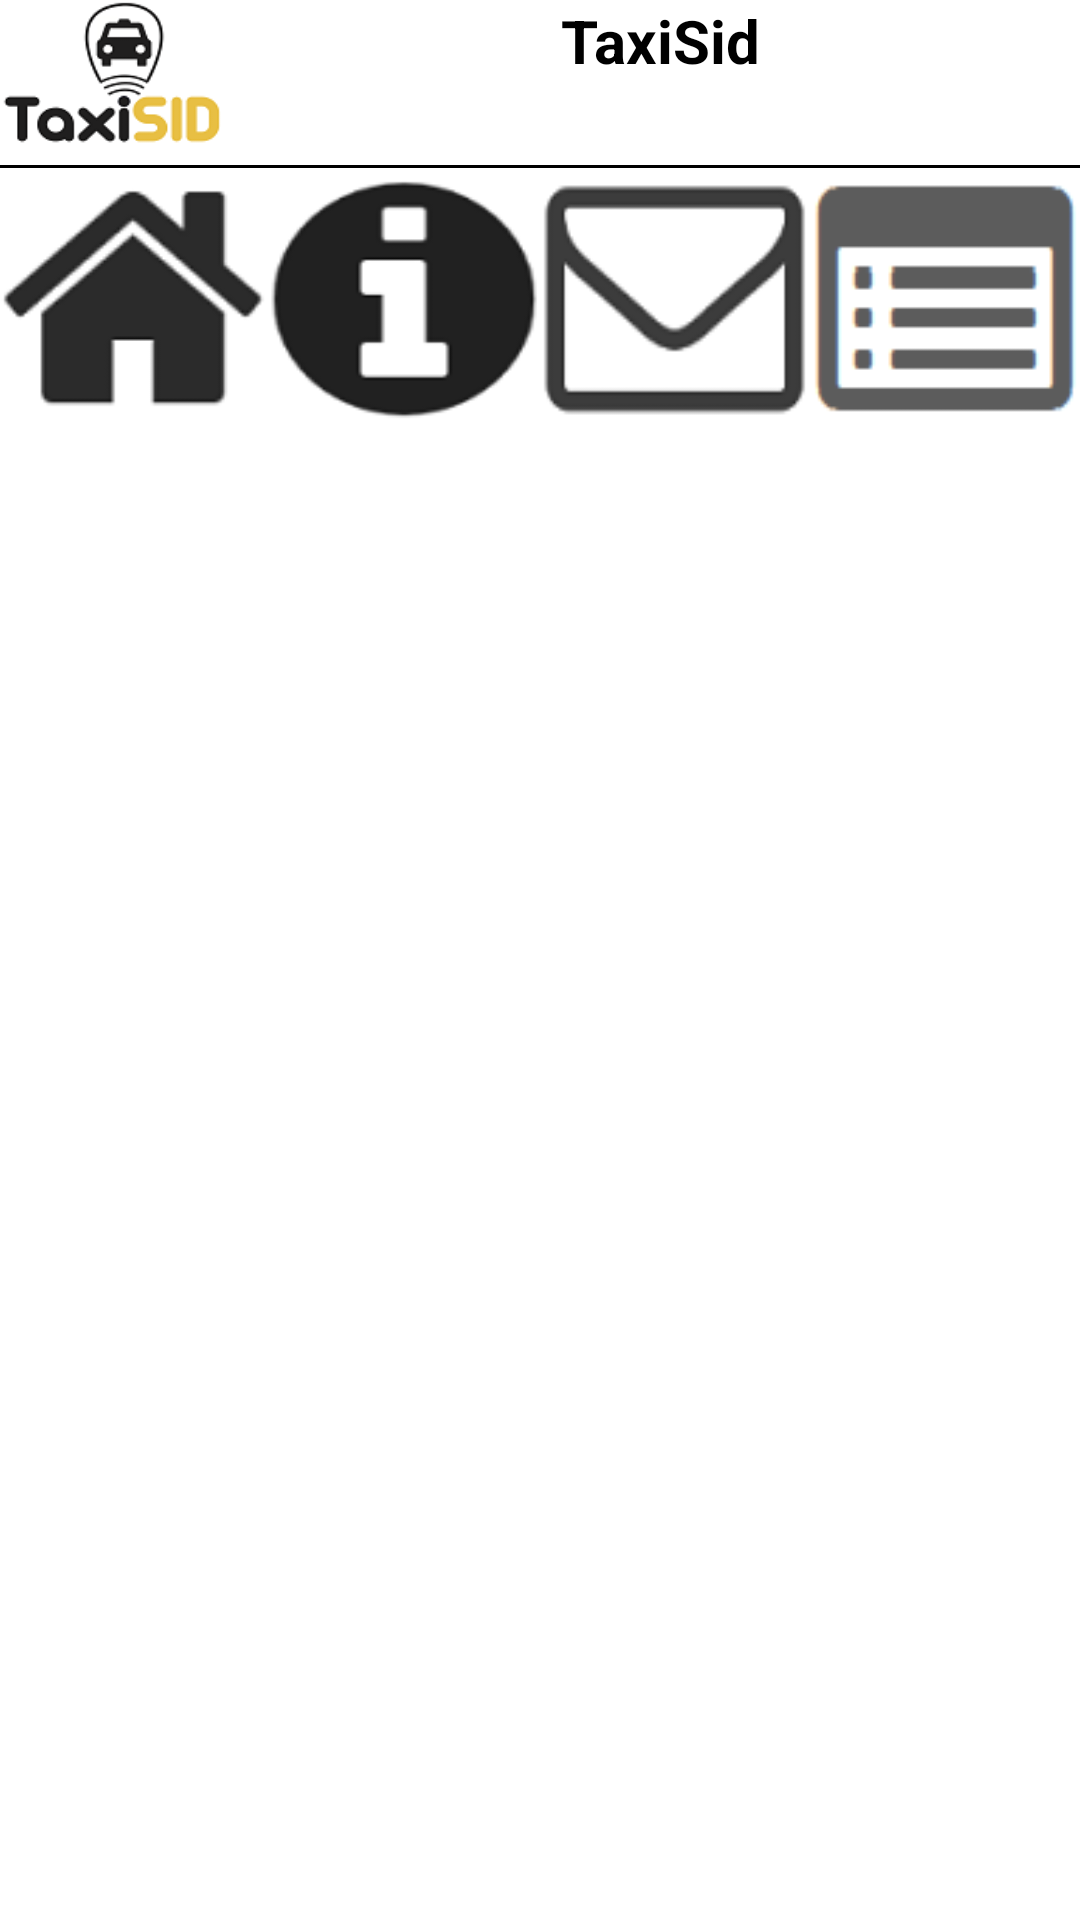

Screen size 1080px×1920px. Icon name, then its center in pixels as (x,y):
enveloppe: (674,299)
home: (133,298)
